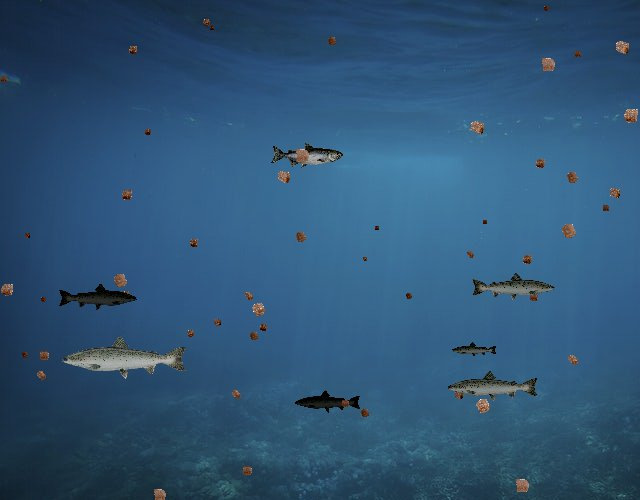Fish: (60, 334, 189, 380), (447, 370, 541, 404), (470, 271, 556, 302), (57, 282, 138, 311), (270, 142, 343, 168), (294, 389, 362, 414), (451, 341, 498, 358)
Pellet: (244, 295, 272, 323), (270, 163, 297, 190), (616, 100, 640, 130), (540, 2, 553, 15), (21, 230, 33, 242)
